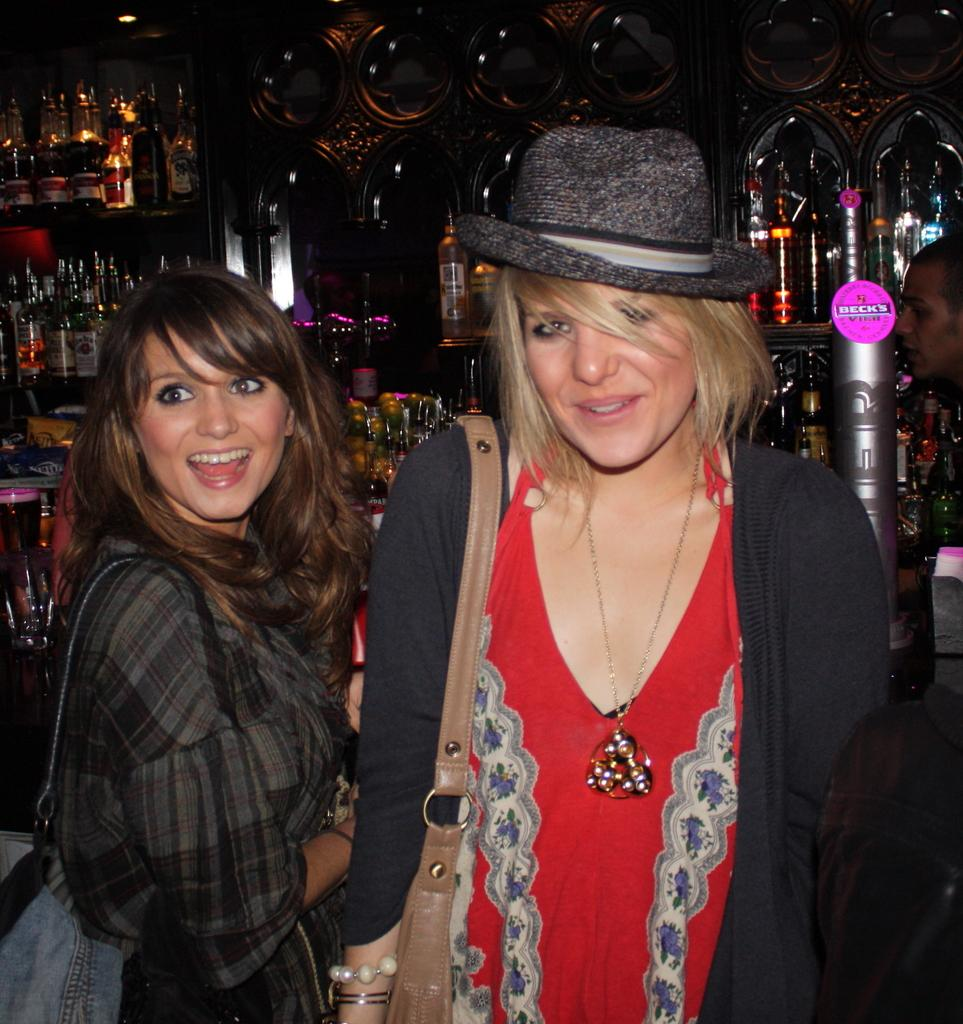Hat: (456, 121, 778, 301)
